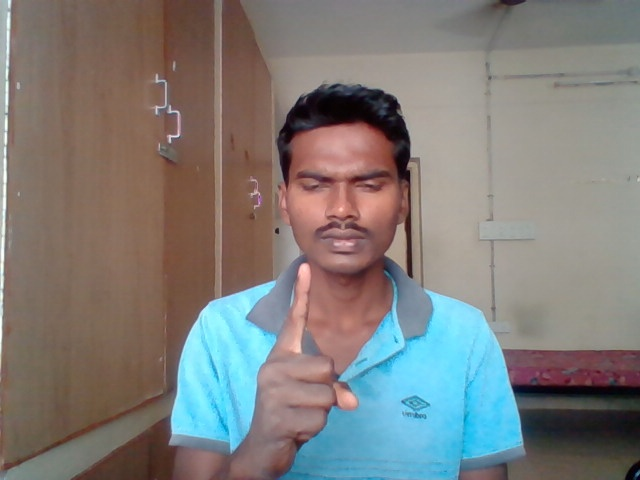No: (252, 260, 360, 466)
